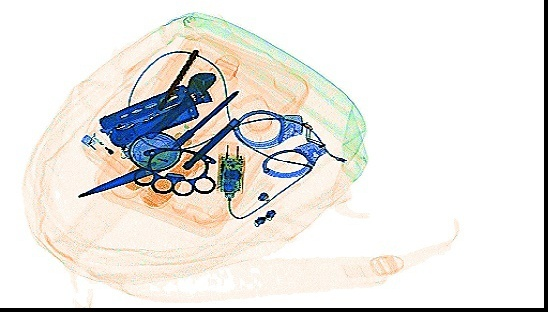handcuffs: (232, 108, 328, 178)
knife: (97, 82, 199, 151)
lighter: (79, 131, 133, 175)
scissors: (76, 156, 164, 199)
